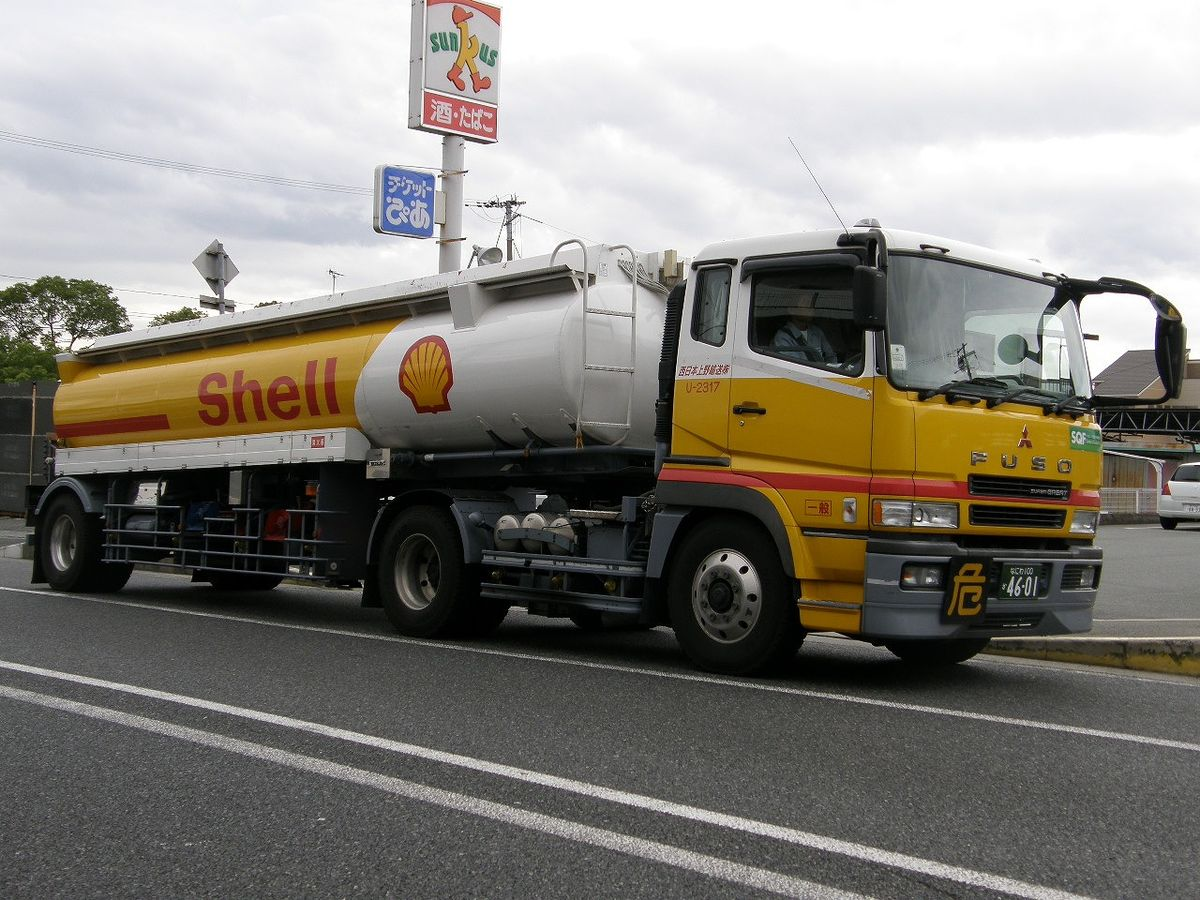truck: (29, 231, 1101, 693)
